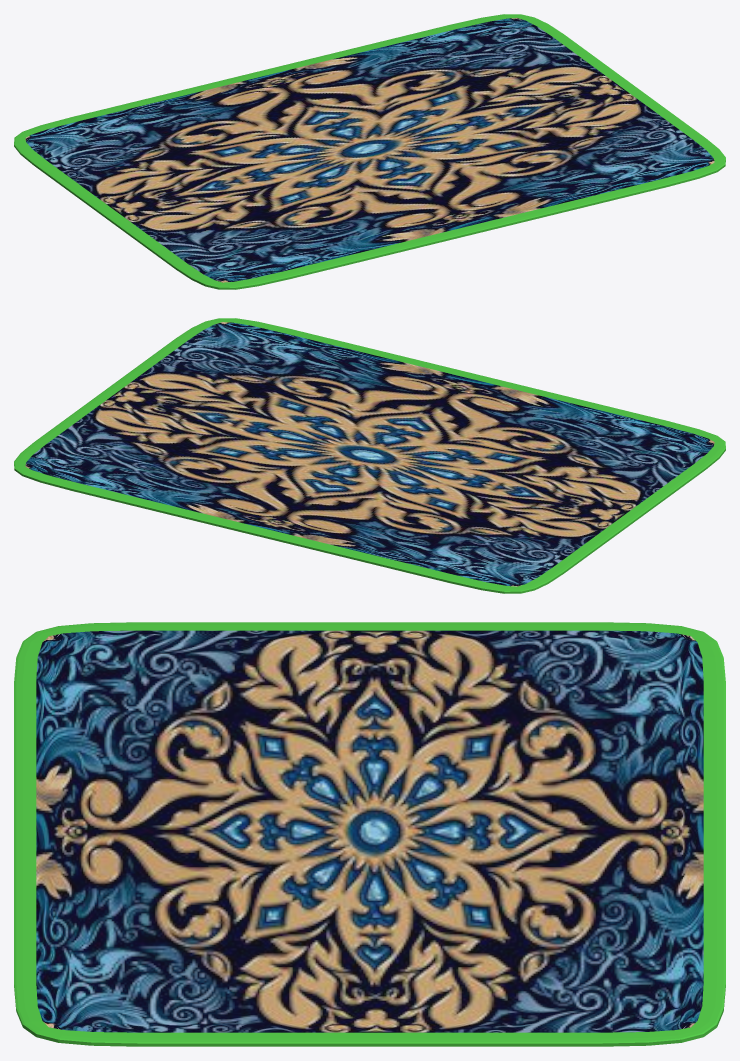
Rendered from PlayingCard.fbx.
The picture shows the model from 3 angles, top to bottom: view 1: azimuth 30°, elevation 25°; view 2: azimuth 150°, elevation 25°; view 3: azimuth 270°, elevation 25°; orthographic projection. The views are drawn at different scales.
Visible parts, largest first — view 1: Card; view 2: Card; view 3: Card.
Part boxes in pixels (x1=…): Card: x1=14, y1=14, x2=725, y2=289; Card: x1=14, y1=318, x2=725, y2=593; Card: x1=14, y1=622, x2=725, y2=1046.
Bounding box in the file's own units: 280 × 2 × 200.
Materials: 3 (2 with a texture image).
